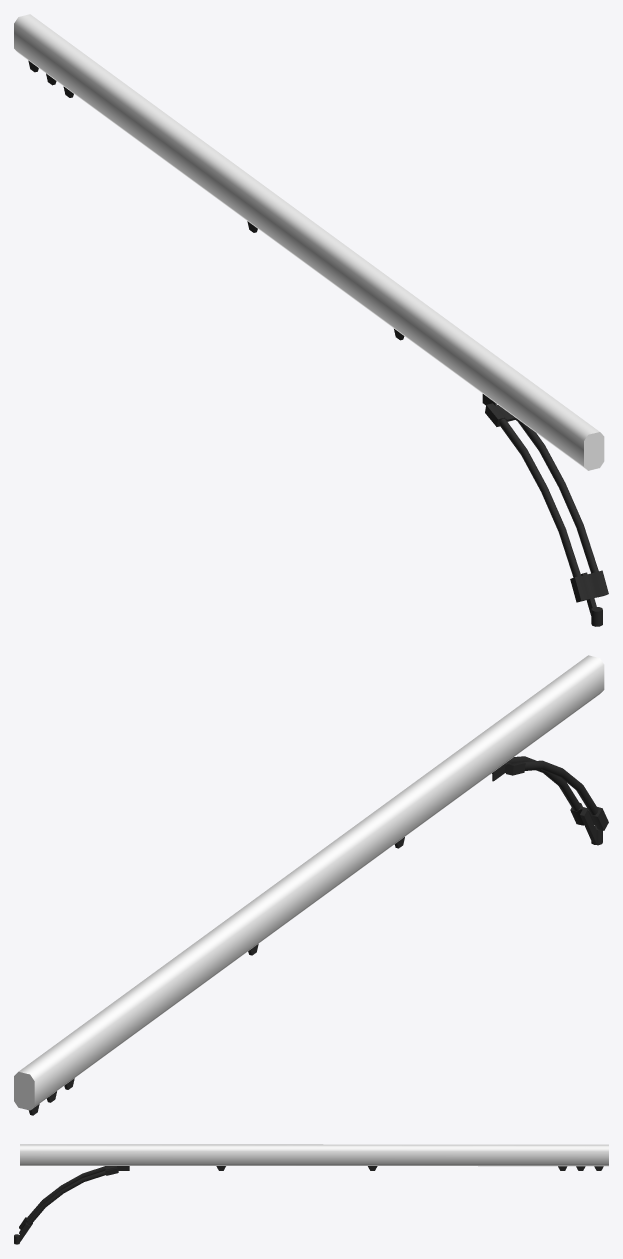
The model's file is boom.fbx.
3 views of the same model, one above another, from view 1: azimuth 30°, elevation 25°; view 2: azimuth 150°, elevation 25°; view 3: azimuth 270°, elevation 25° (orthographic). The views are drawn at different scales.
Parts seen in each view (by area): view 1: Boom; view 2: Boom; view 3: Boom.
Part boxes in pixels (x1,y1,x2,y2): Boom: (14,14,608,626); Boom: (14,655,608,1115); Boom: (14,1144,608,1244).
Bounding box in the file's own units: 0.0913 × 0.5939 × 3.29.
